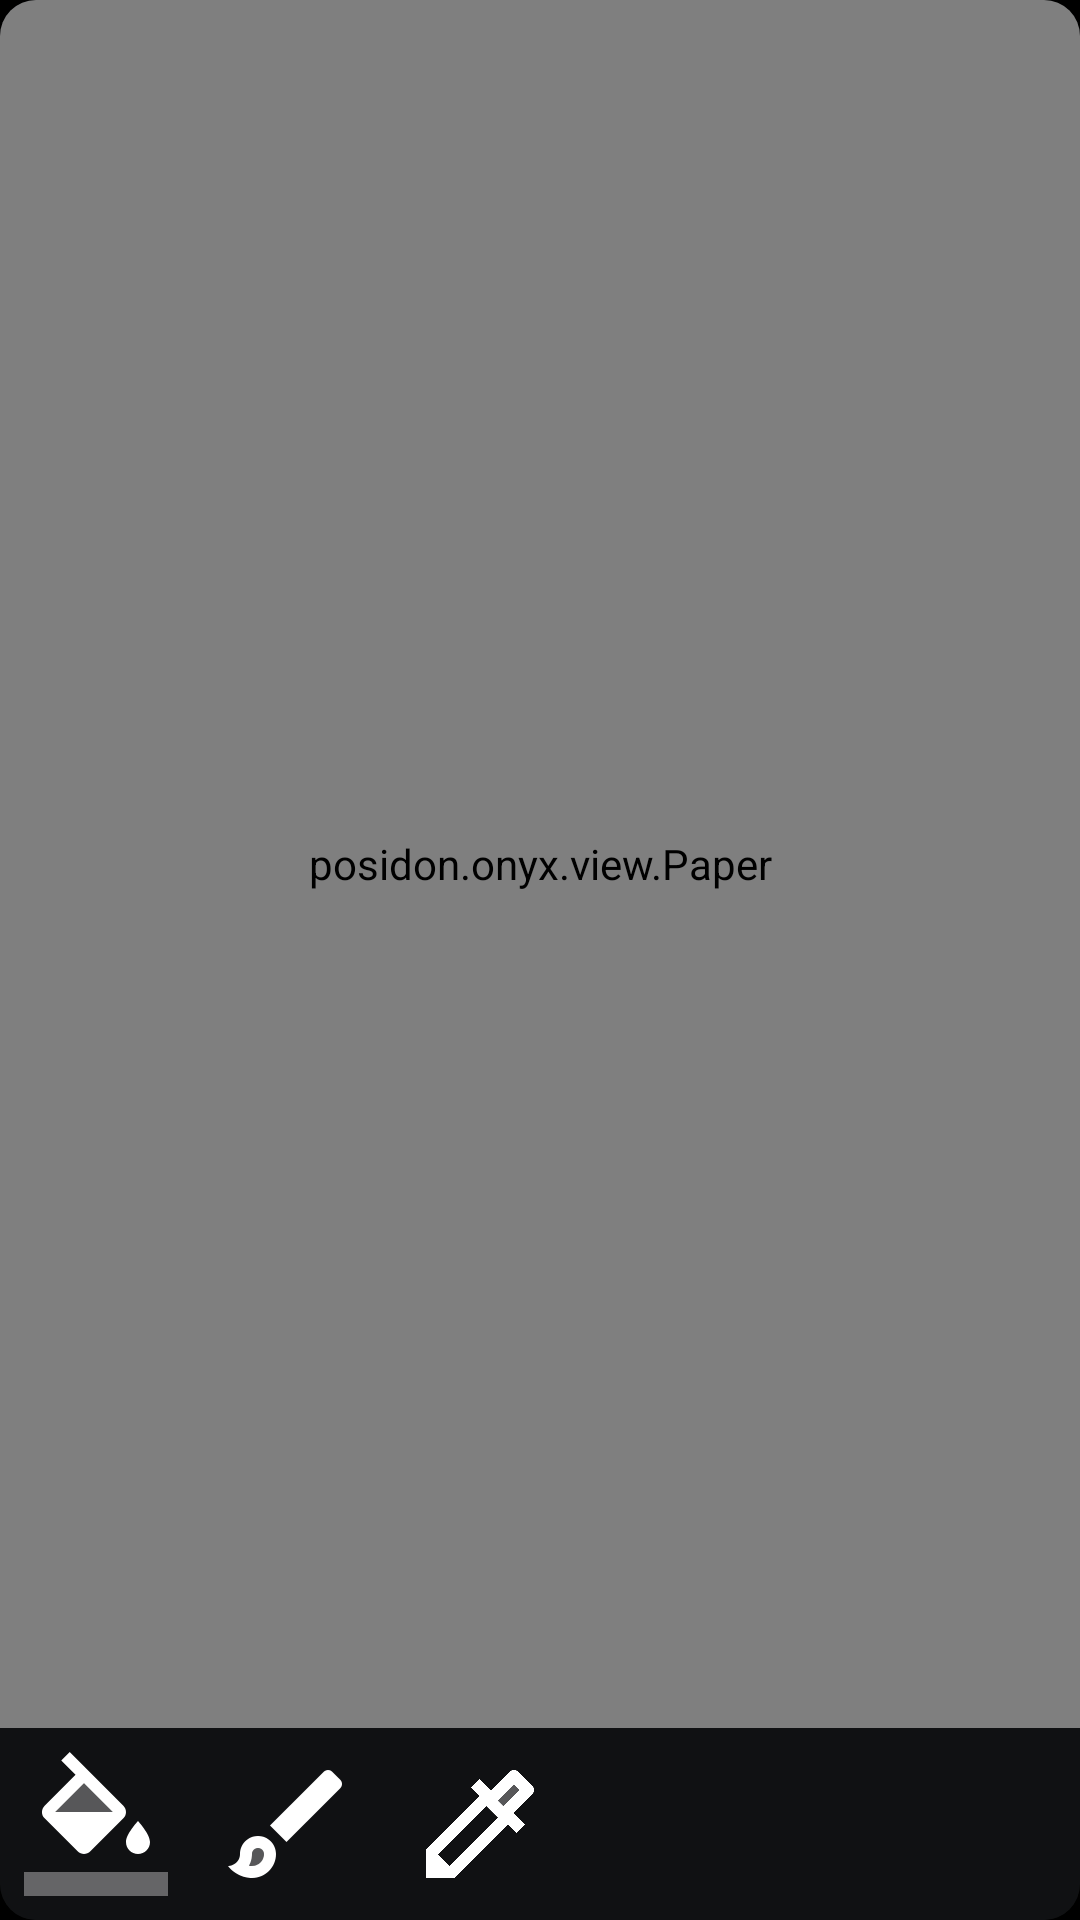

Locate icon controls on the screen. Image size 1080 × 1920, boxes as [x1, y1, x2, y2].
icbrush: [228, 1770, 342, 1878]
iccolor: [24, 1752, 168, 1896]
icdropper: [426, 1770, 534, 1878]
